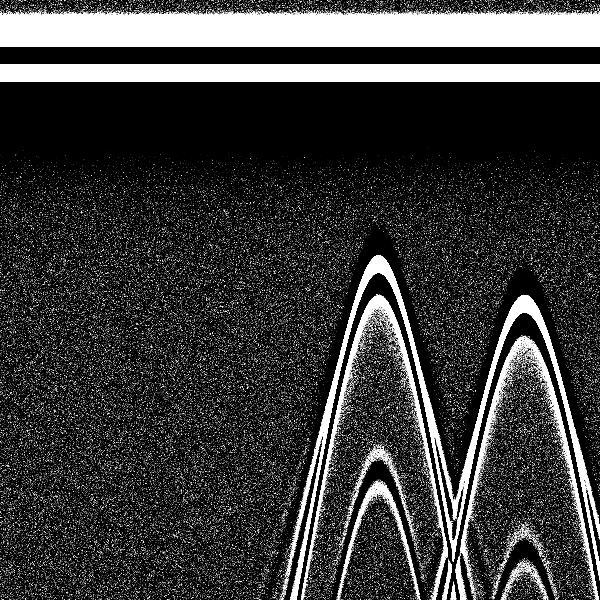pipe: (478, 6, 573, 377), (326, 5, 428, 350)
